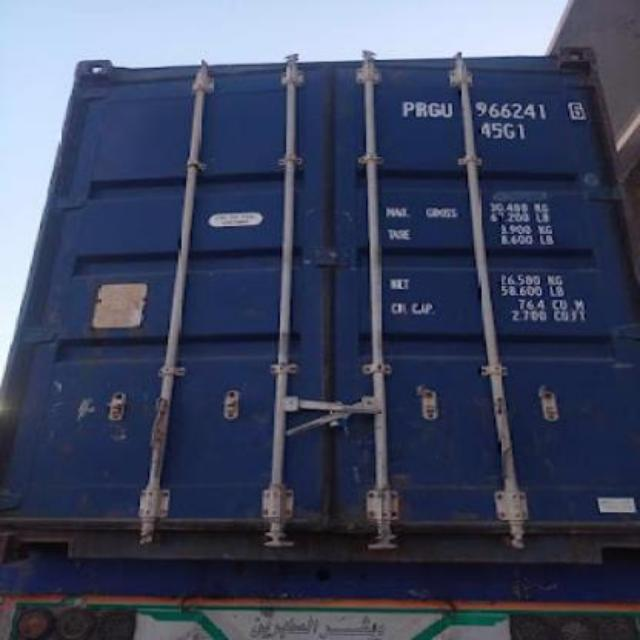1: (536, 102, 548, 120)
2: (512, 102, 526, 118)
4: (524, 102, 538, 120)
6: (568, 102, 584, 118), (486, 102, 499, 120), (502, 102, 512, 118)
9: (474, 102, 488, 115)
G: (428, 102, 440, 118)
P: (400, 100, 416, 118)
R: (414, 102, 428, 118)
U: (440, 102, 456, 118)
